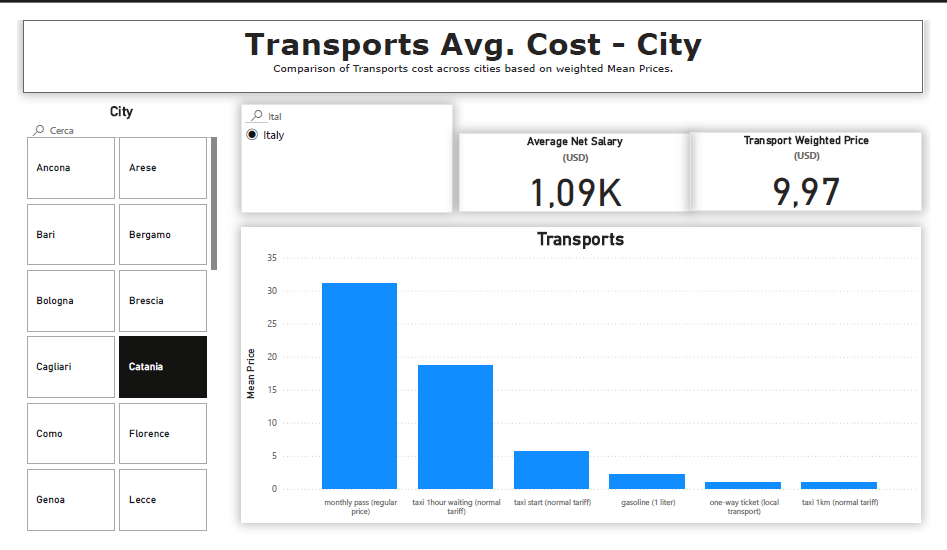

This screenshot's page, from the dashboard's own definition file:
{"tool":"powerbi","page":{"name":"Transports","canvas":[1280,720],"ordinal":3},"visuals":[{"type":"columnChart","title":"Transports","fields":{"Y":["livingcost vw_valcar_transformed.Avg_Transport_City"],"Category":["livingcost vw_valcar_transformed.Paramethers"]},"box":[314.3,291.4,951.4,412.9],"z":0},{"type":"advancedSlicerVisual","title":"City","fields":{"Values":["livingcost vw_valcar_transformed.CityName"]},"box":[8.7,117.3,276.6,602.5],"z":1000},{"type":"listSlicer","fields":{"Values":["livingcost vw_valcar_transformed.Country"]},"box":[314,118,296,152],"z":2000},{"type":"card","title":"Average Net Salary","fields":{"Values":["livingcost vw_valcar_transformed.Avg_Salary_City"]},"box":[618.8,158.8,325,110],"z":3000},{"type":"textbox","box":[9,0,1260.9,101.6],"z":4000},{"type":"card","title":"Transport Weighted Price","fields":{"Values":["livingcost vw_valcar_transformed.Avg_Transport_City"]},"box":[943.3,156.7,325,111.7],"z":5000}]}

Visuals, with their boxes on the page's 1280x720 design canvas (x1, y1, x2, y2). These are canvas units, not pixel positions in the 947x550 screenshot, which may show the page scaled, cropped or inside an application window:
"Transports" columnChart: 314 291 1266 704
"City" advancedSlicerVisual: 9 117 285 720
listSlicer - livingcost vw_valcar_transformed.Country: 314 118 610 270
"Average Net Salary" card: 619 159 944 269
textbox: 9 0 1270 102
"Transport Weighted Price" card: 943 157 1268 268
